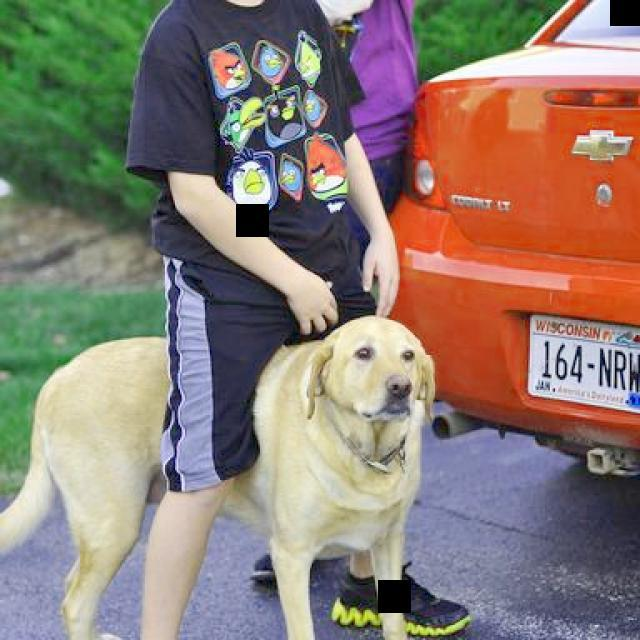adult_dog: (0, 317, 437, 640)
